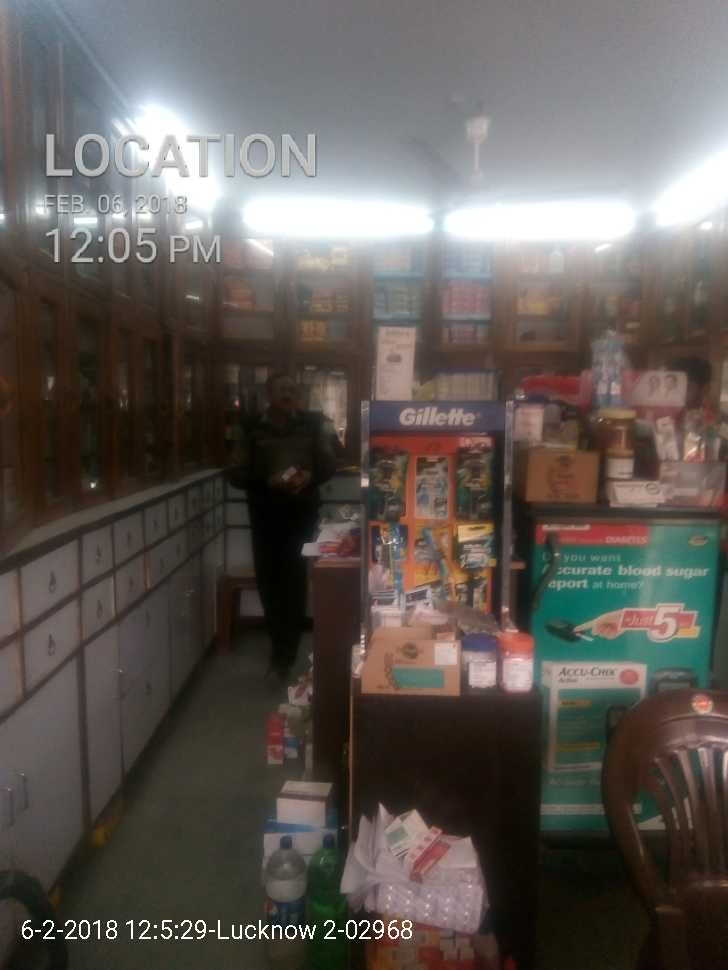gillette: (456, 445, 497, 521), (369, 526, 411, 597), (367, 451, 408, 521), (458, 520, 501, 572), (421, 527, 449, 588)
